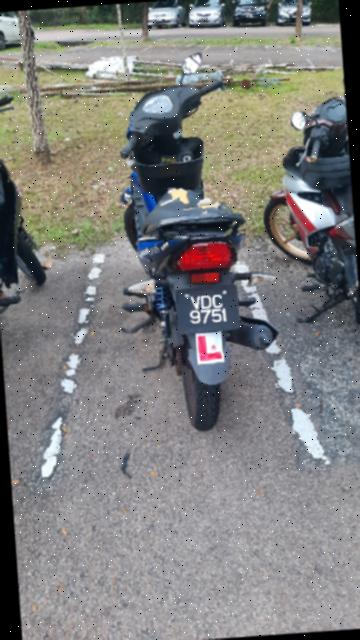License_Plate: (174, 284, 244, 337)
motorcycle: (92, 53, 297, 439), (257, 82, 360, 340)
